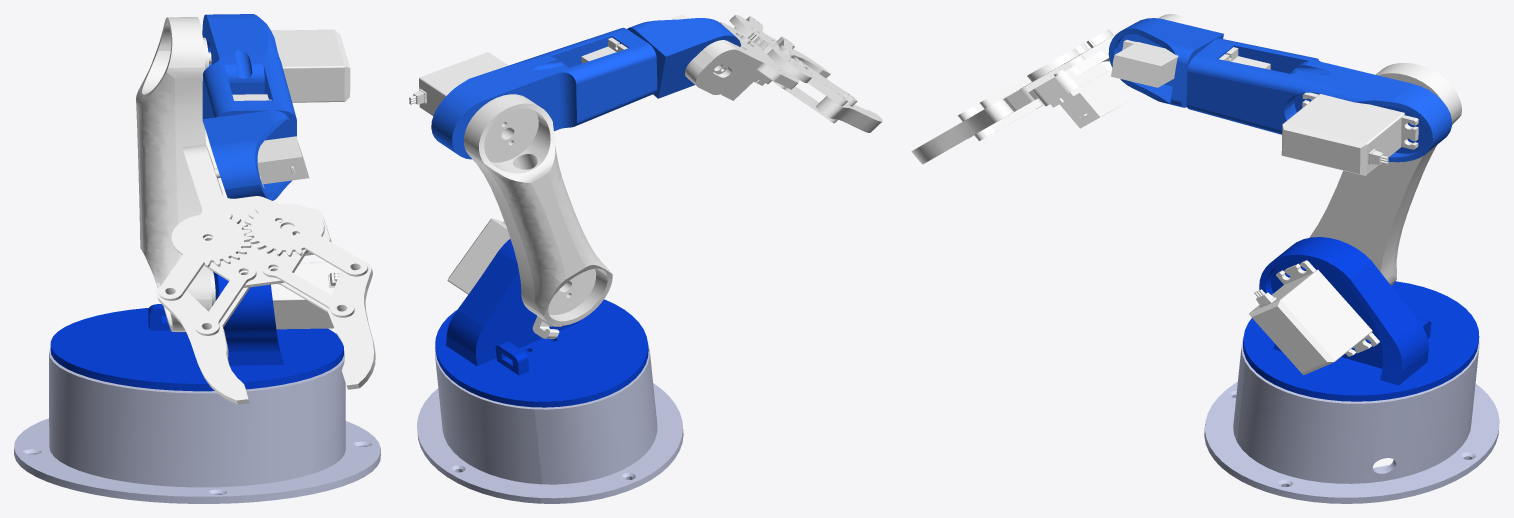
The model's file is testarm.glb.
3 views of the same model, side by side, from view 1: azimuth 30°, elevation 25°; view 2: azimuth 150°, elevation 25°; view 3: azimuth 270°, elevation 25° (orthographic). The views are drawn at different scales.
Visible parts, largest first — view 1: Base_node, Waist_node, nodes[15], Arm 02 v3_node, Arm 03_node, nodes[27], Gripper base, gear1, gear2, Gripper 1, Gripper 1_node, nodes[12] (+3 smaller); view 2: Base_node, Waist_node, nodes[15], Arm 02 v3_node, Arm 03_node, Gripper base, nodes[27], nodes[12], gear1, Gripper 1_node, gear2; view 3: Base_node, Waist_node, Arm 02 v3_node, nodes[15], nodes[12], nodes[27], Arm 03_node, nodes[35], Gripper base, nodes[49], Gripper 1, gear2 (+2 smaller).
Part boxes in pixels (x1,y1,x2,y2): Base_node: (14,347,380,503); Waist_node: (50,271,343,391); nodes[15]: (136,17,211,331); Arm 02 v3_node: (202,14,296,136); Arm 03_node: (202,110,294,200); nodes[27]: (203,29,350,102); Gripper base: (182,144,331,287); gear1: (158,213,252,300); gear2: (243,203,368,276); Gripper 1: (327,260,375,389); Gripper 1_node: (156,287,249,404); nodes[12]: (210,262,340,329); Base_node: (417,342,683,503); Waist_node: (435,239,648,407); nodes[15]: (464,94,612,325); Arm 02 v3_node: (431,27,657,159); Arm 03_node: (627,18,740,98); Gripper base: (685,22,799,94); nodes[27]: (413,52,508,115); nodes[12]: (447,218,510,294); gear1: (762,43,848,106); Gripper 1_node: (816,96,882,132); gear2: (729,14,779,49); Base_node: (1204,337,1499,503); Waist_node: (1243,237,1479,401); Arm 02 v3_node: (1186,38,1451,162); nodes[15]: (1309,63,1461,285); nodes[12]: (1249,260,1379,374); nodes[27]: (1281,92,1418,175); Arm 03_node: (1108,18,1223,107); nodes[35]: (1111,42,1178,87); Gripper base: (1028,14,1192,106); nodes[49]: (1054,69,1128,128); Gripper 1: (911,99,1013,164); gear2: (979,45,1085,108).
Bounding box in the file's own units: 112 × 133 × 182.
